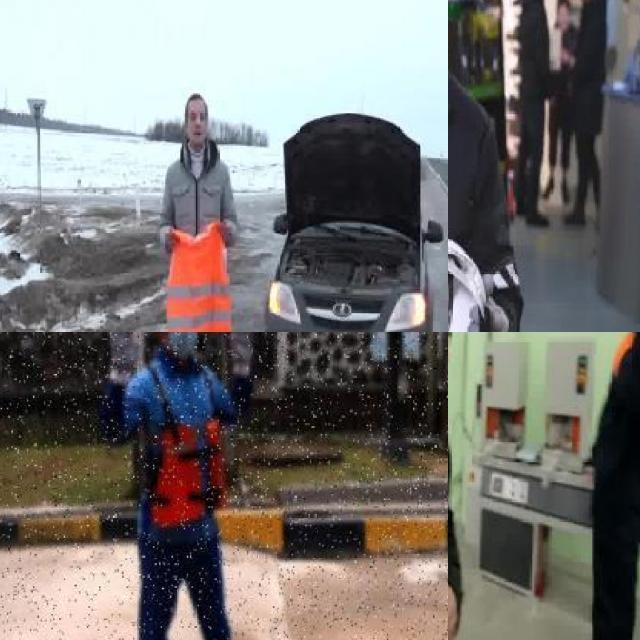apron: (463, 270, 509, 332), (105, 332, 142, 388), (226, 332, 254, 378)
